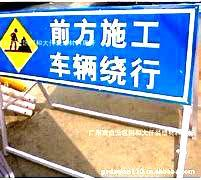sign: (1, 13, 193, 103)
